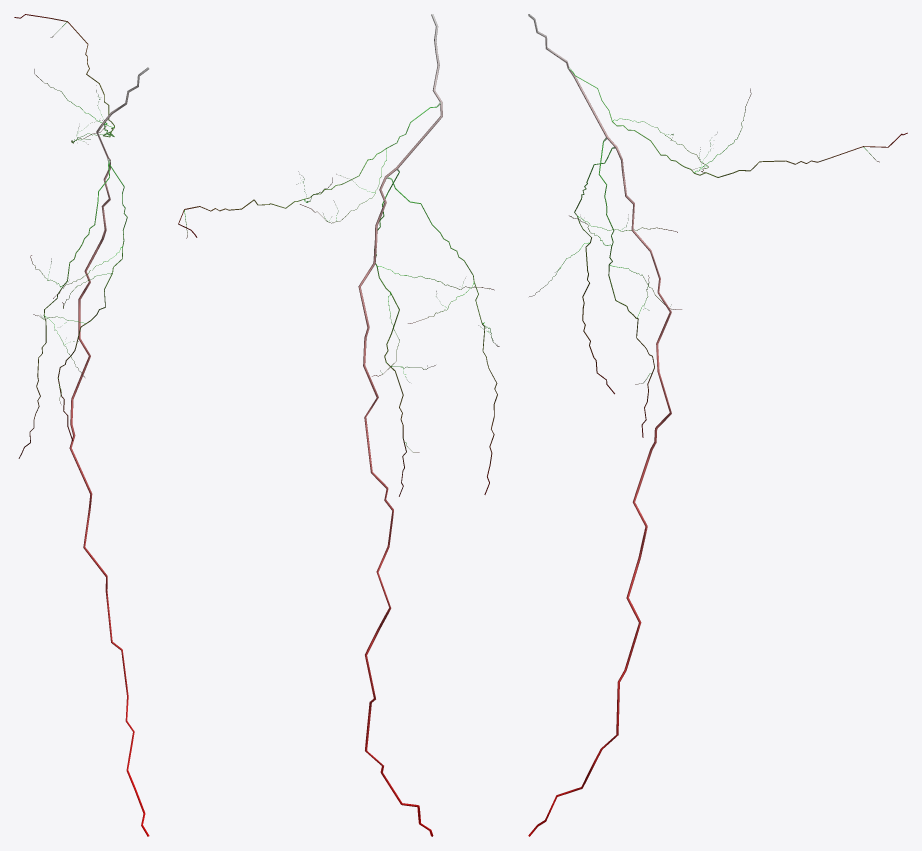
The model's file is SM_Lightning_03.fbx.
3 renders of one model, left to right at view 1: azimuth 30°, elevation 25°; view 2: azimuth 150°, elevation 25°; view 3: azimuth 270°, elevation 25°, orthographic. The views are drawn at different scales.
Visible parts, largest first — view 1: timeshift4; view 2: timeshift4; view 3: timeshift4.
Boxes of the visible parts, left/top/right/bottom form: timeshift4: left=14, top=14, right=149, bottom=836; timeshift4: left=178, top=14, right=499, bottom=836; timeshift4: left=528, top=14, right=907, bottom=836.
Size of the model in its own units: 23.02 by 100 by 41.84.
